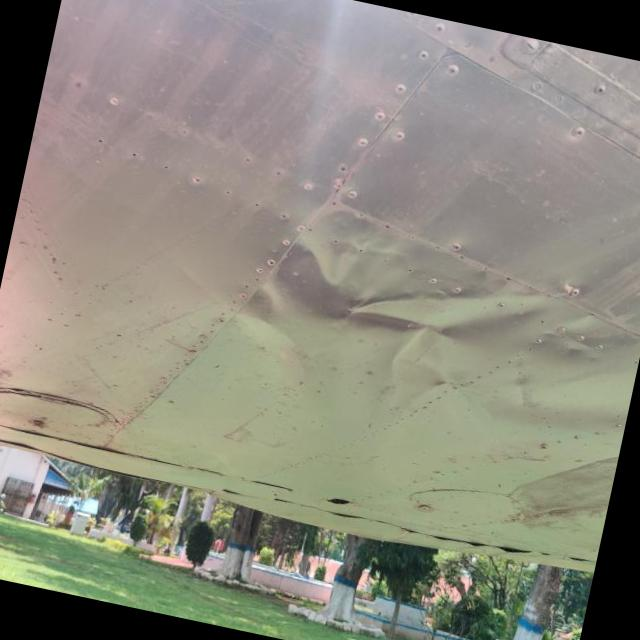Dent: (224, 206, 554, 397)
